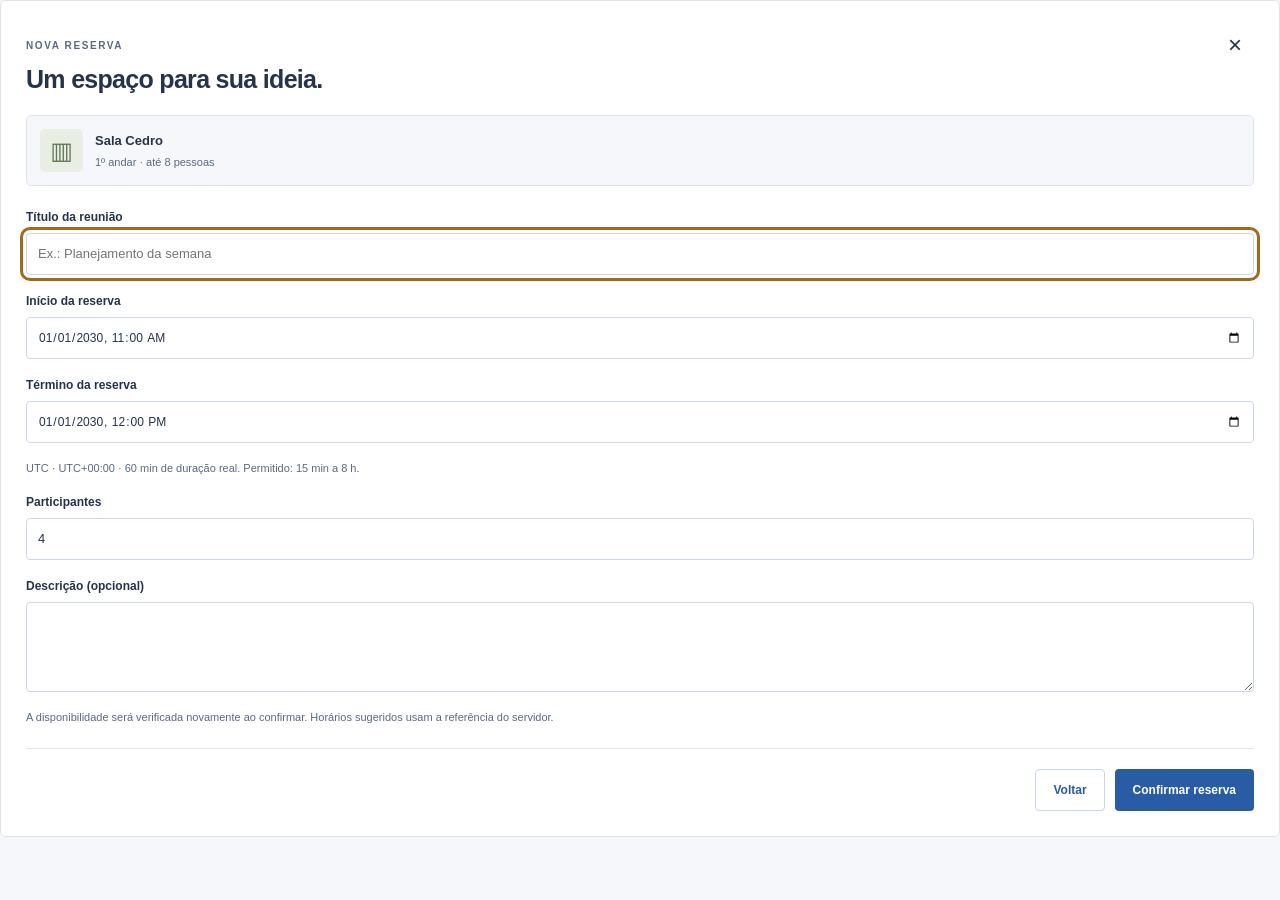
it: reservation form states › associates backend validation details with their field
The width and height of the screenshot is (1280, 900).
In the field labelled "Título da reunião": (640, 254) [26,233,1254,275], type "Planejamento"
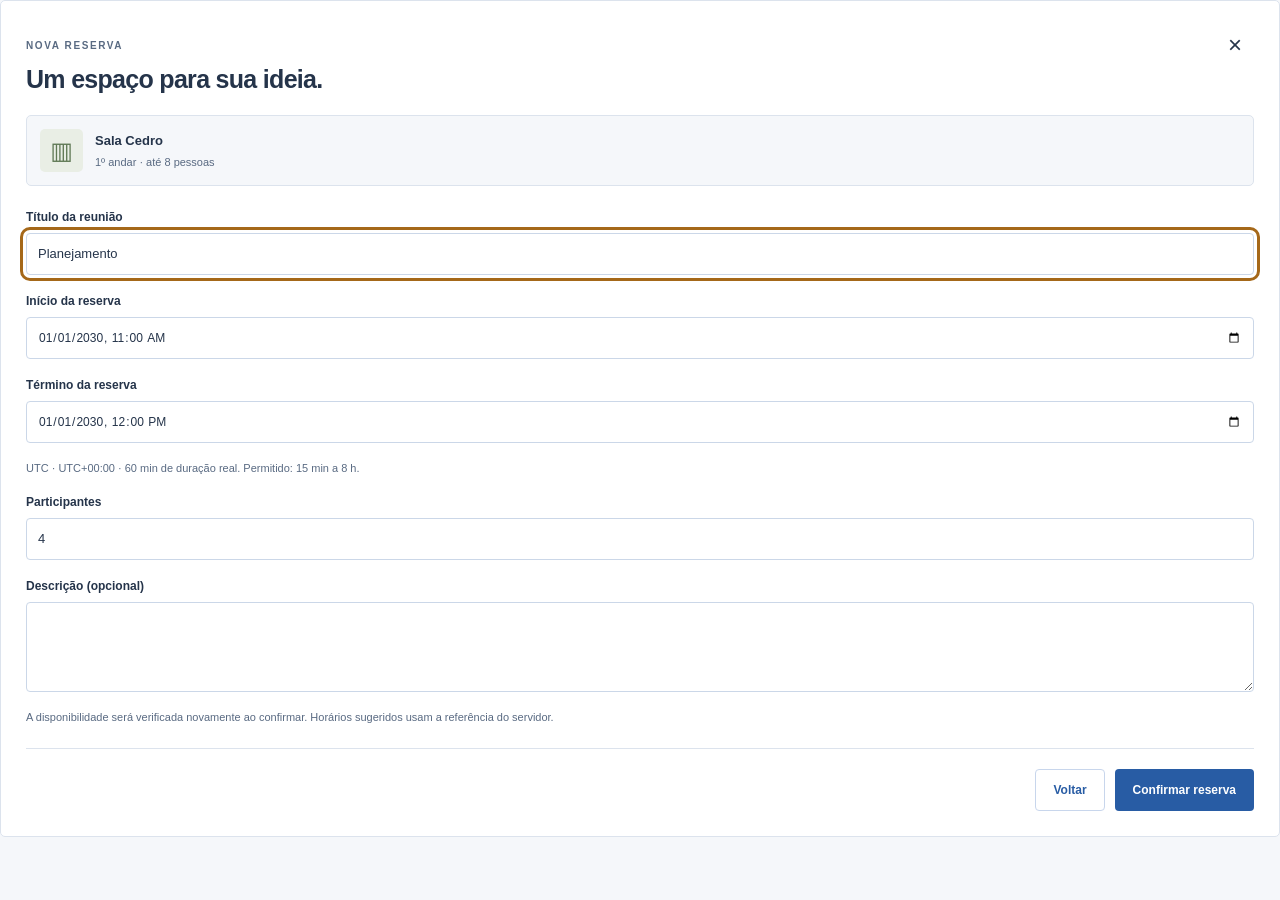
In the text box labelled "Descrição (opcional)": (640, 647) [26,602,1254,692], type "Pauta importante"
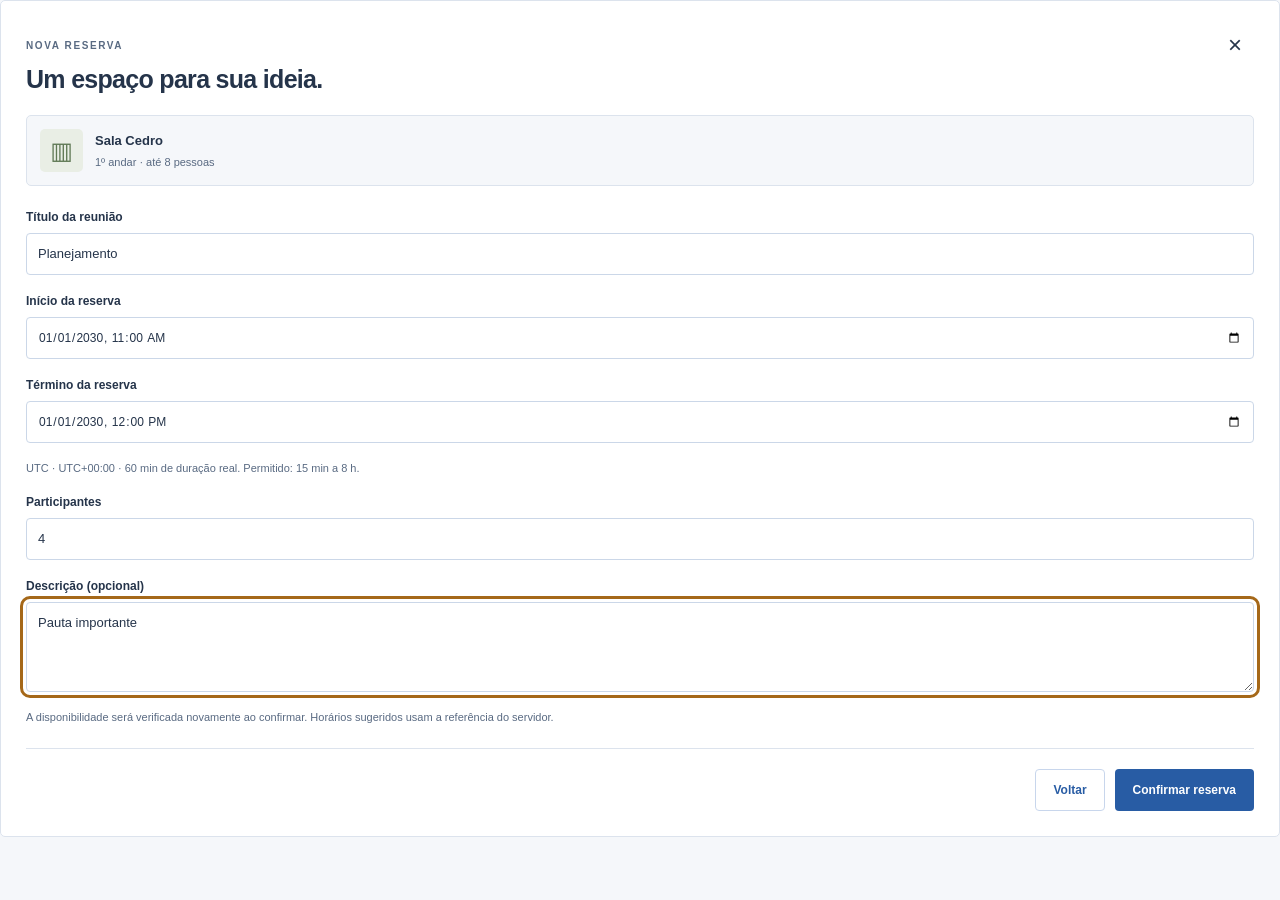
Click the button "Confirmar reserva": (1184, 790) [1115,769,1254,811]
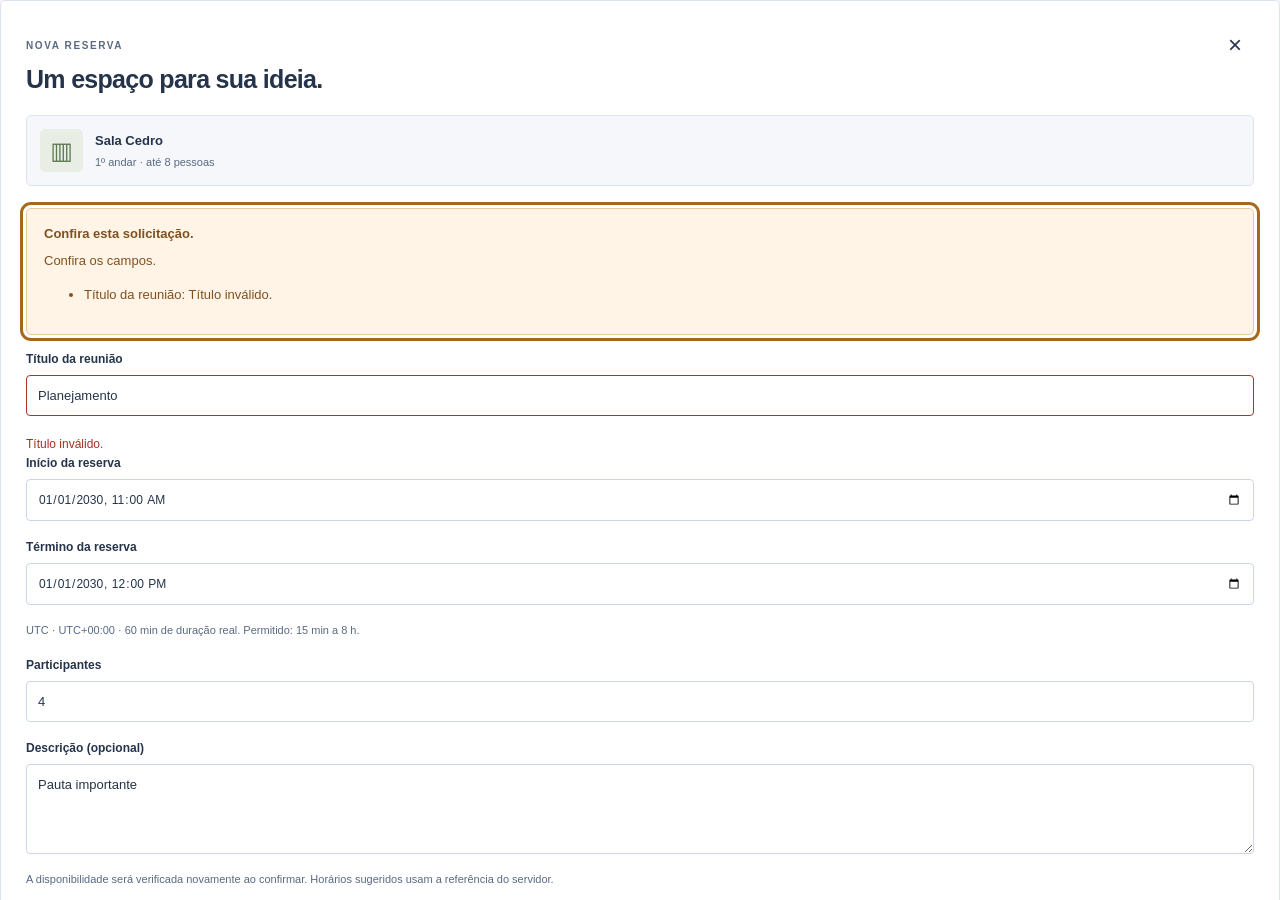
Result: the text "Título inválido." is shown at [26,437,103,451]
